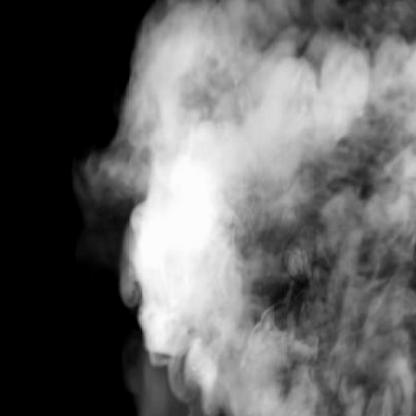smoke: (110, 0, 416, 415)
